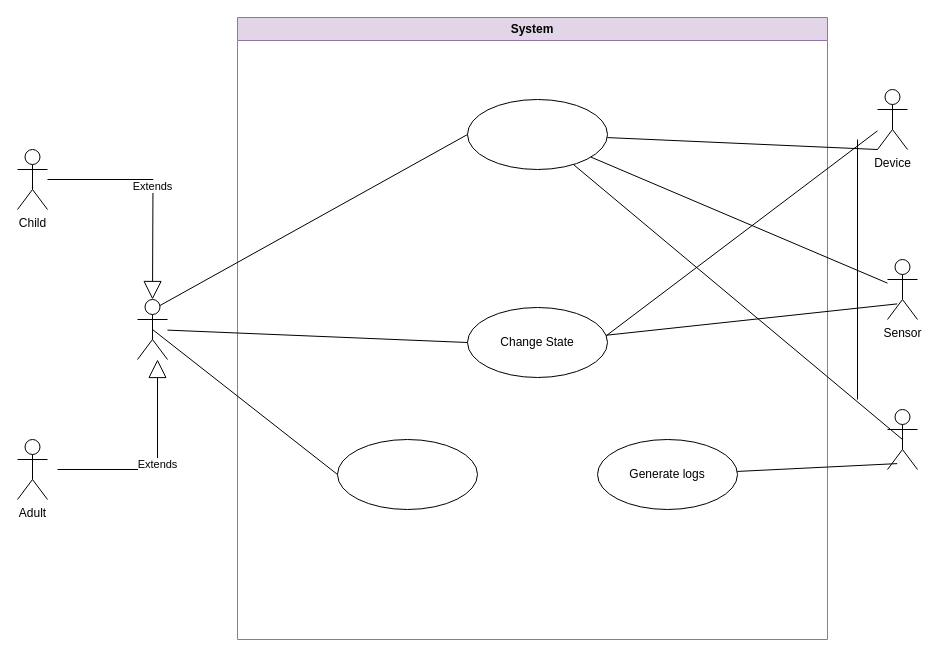
Some shapes in this 939 by 657 pixel diagram are drawn without their labels. Here are the shapes that lost their labels. From the top down, the centre of each, then its label:
the point at 537,134: Call Events
the point at 152,329: Person
the point at 902,439: Time
the point at 407,474: Use Device
